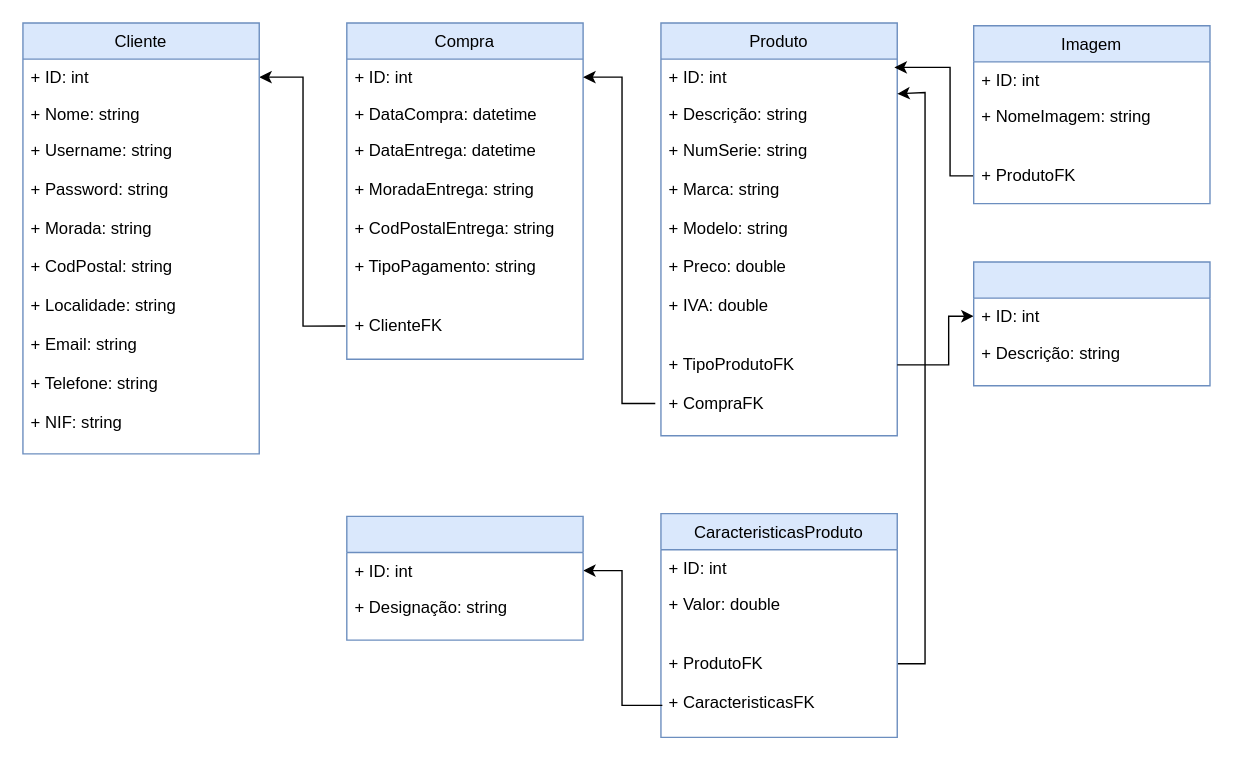
Some shapes in this 1233 by 760 pixel diagram are drawn without their labels. The box of each missing label's shape, as (x1, y1, x2, y2) in pixels:
Caracteristicas: (345, 515, 583, 640)
TipoProduto: (972, 261, 1210, 386)
